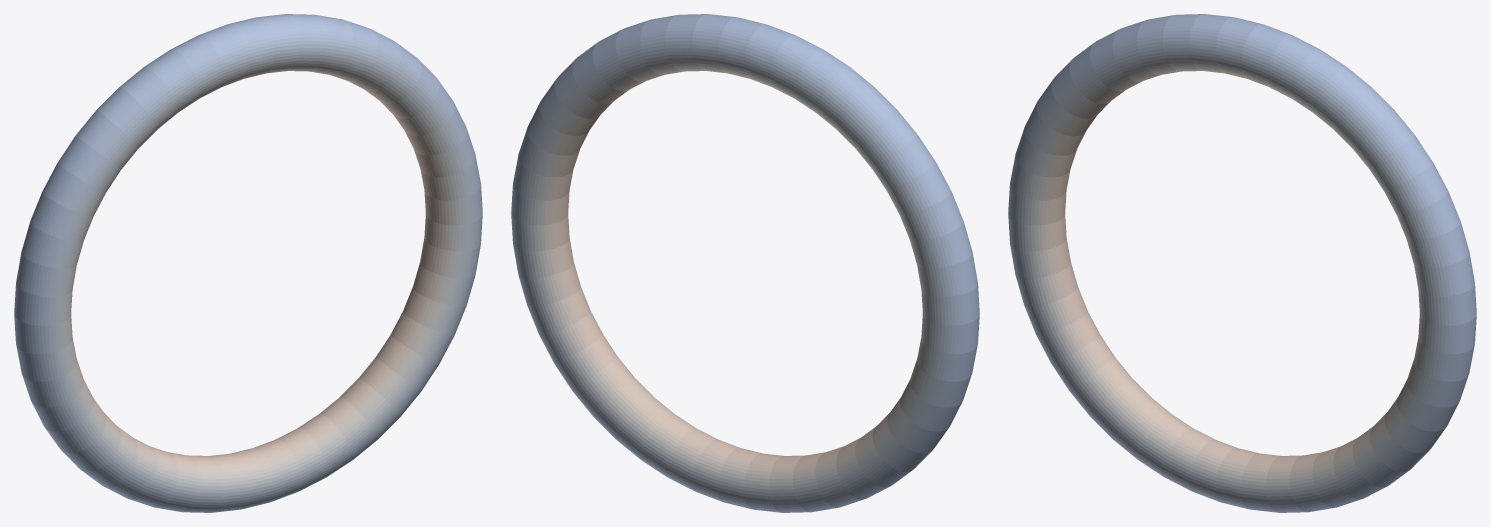
3 renders of one model, left to right at view 1: azimuth 30°, elevation 25°; view 2: azimuth 150°, elevation 25°; view 3: azimuth 330°, elevation 25°, orthographic.
Visible parts, largest first — view 1: world; view 2: world; view 3: world.
Boxes of the visible parts, x1,y1,x2,y2 form: world: [14, 14, 482, 512]; world: [511, 14, 979, 512]; world: [1008, 14, 1476, 512].
Bounding box in the file's own units: 33.6 × 33.53 × 3.59.
